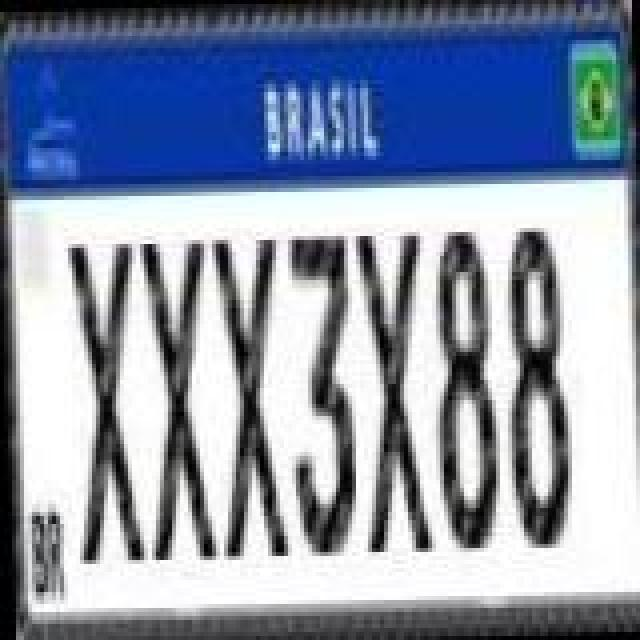3: (278, 228, 354, 556)
8: (494, 220, 570, 548), (424, 226, 496, 550)
X: (64, 236, 144, 564), (132, 234, 212, 562), (210, 230, 286, 558), (354, 226, 430, 554)
